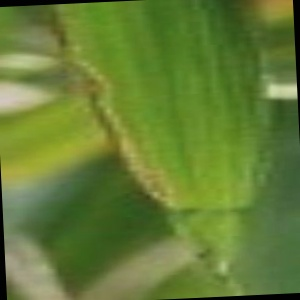Leaf_Blast: (64, 2, 262, 275)
